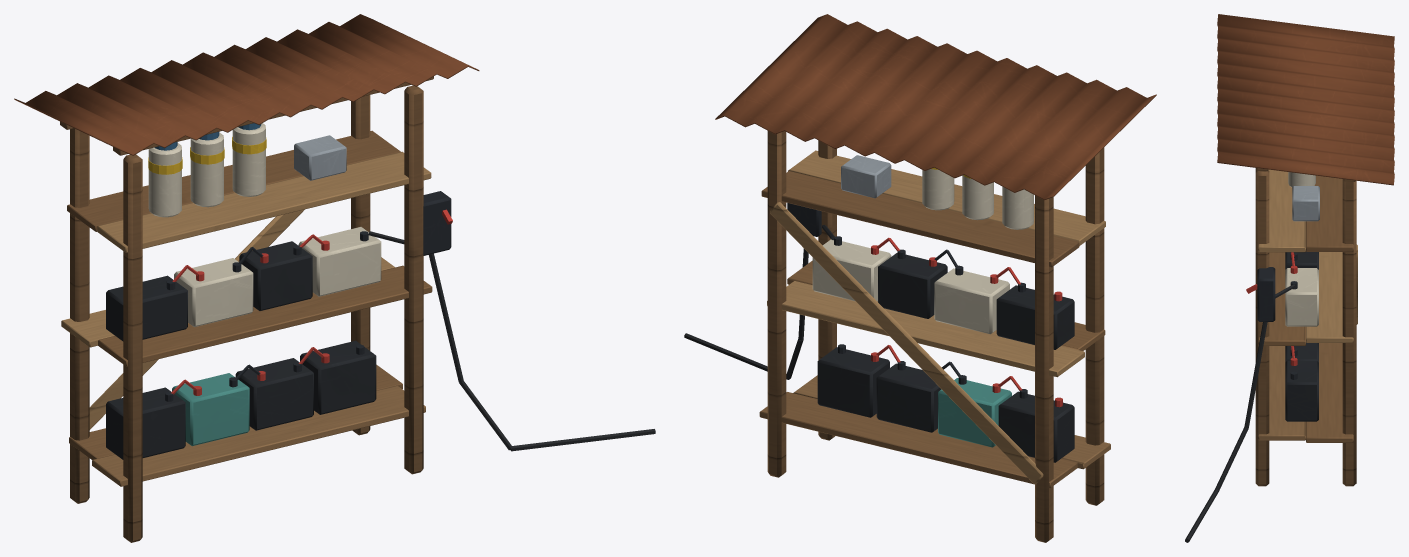
File: battery_rack_settler.glb
The picture shows the model from 3 angles, left to right: view 1: azimuth 30°, elevation 25°; view 2: azimuth 150°, elevation 25°; view 3: azimuth 270°, elevation 25°; orthographic projection. The views are drawn at different scales.
Parts seen in each view (by area): view 1: battery_rack_settler; view 2: battery_rack_settler; view 3: battery_rack_settler.
Part boxes in pixels (x1,y1,x2,y2): battery_rack_settler: (14,14,655,542); battery_rack_settler: (684,14,1156,542); battery_rack_settler: (1185,14,1394,542).
Bounding box in the file's own units: 2.45 × 1.91 × 1.06.
18 materials, 18 textured.
